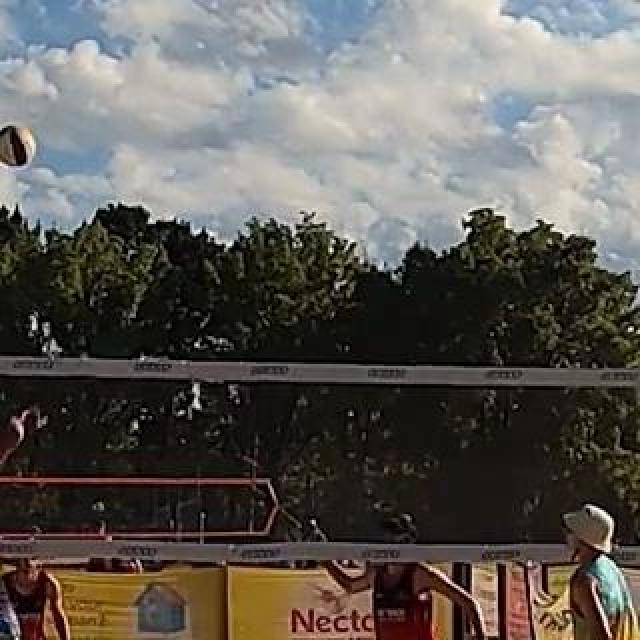volleyball: (0, 124, 36, 166)
